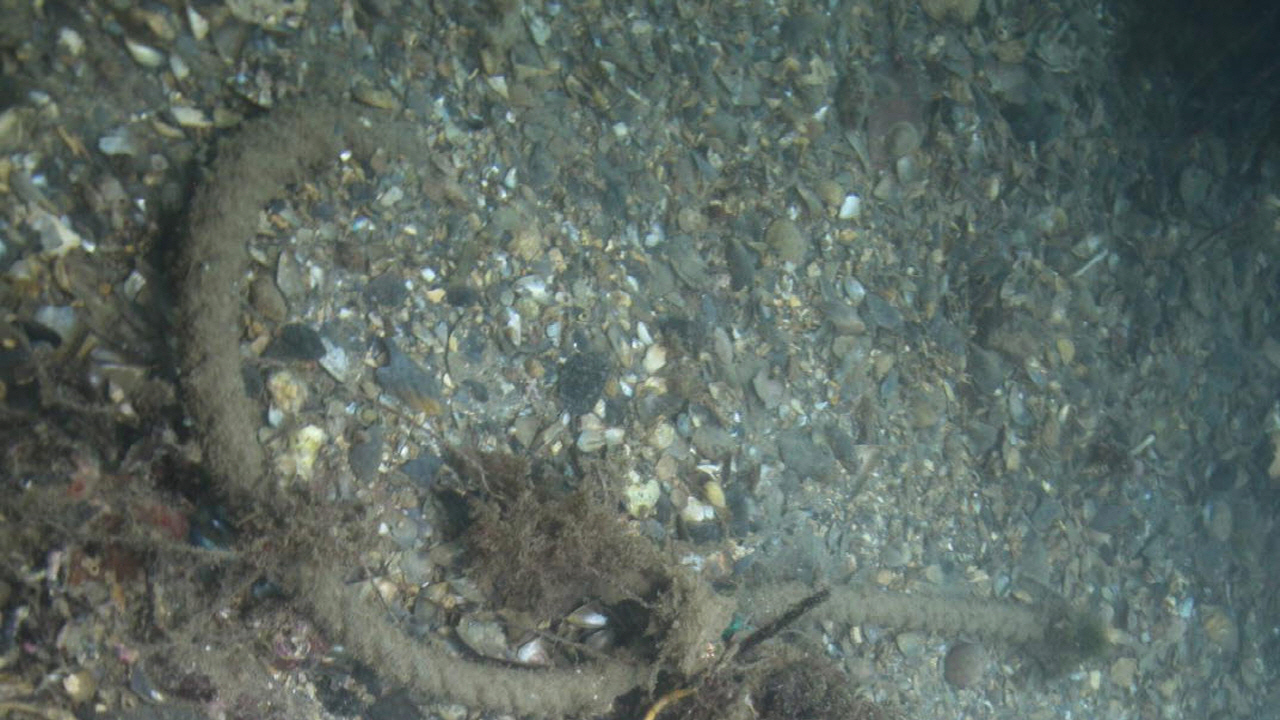rope: (168, 84, 1046, 716)
